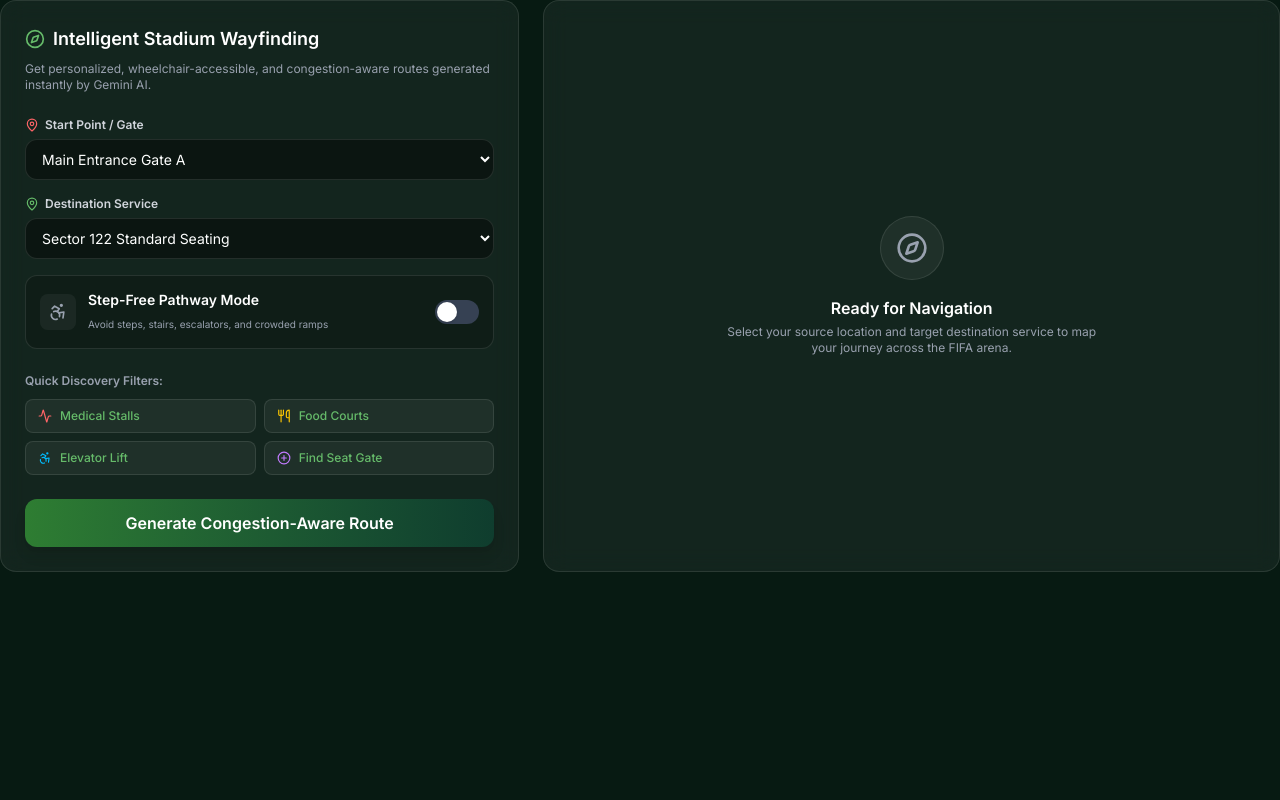
Test: NavigationDashboard Component › handles route retrieval failures cleanly
Click the button "Generate Congestion-Aware Route": (260, 523) [25, 499, 494, 547]
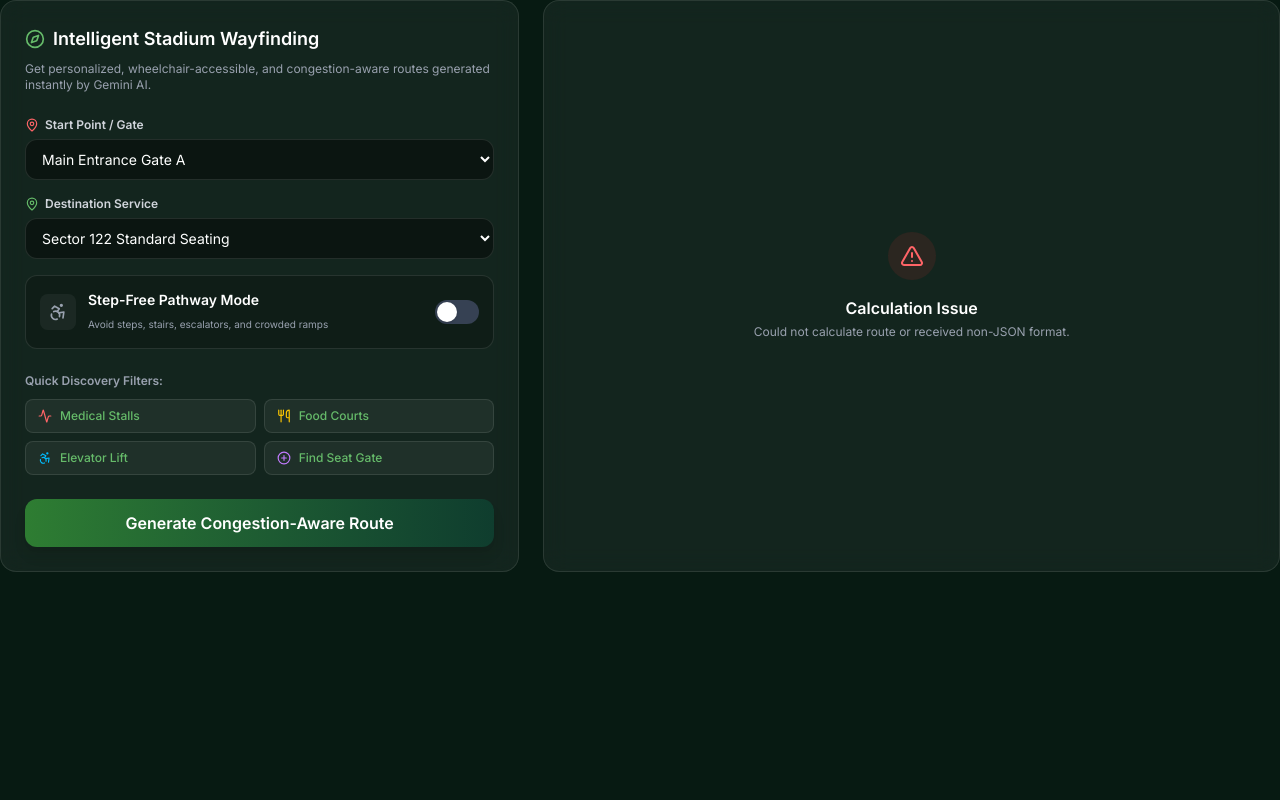
Expected: the text "Could not calculate route or received non-JSON format." is shown, [754, 324, 1070, 340]
